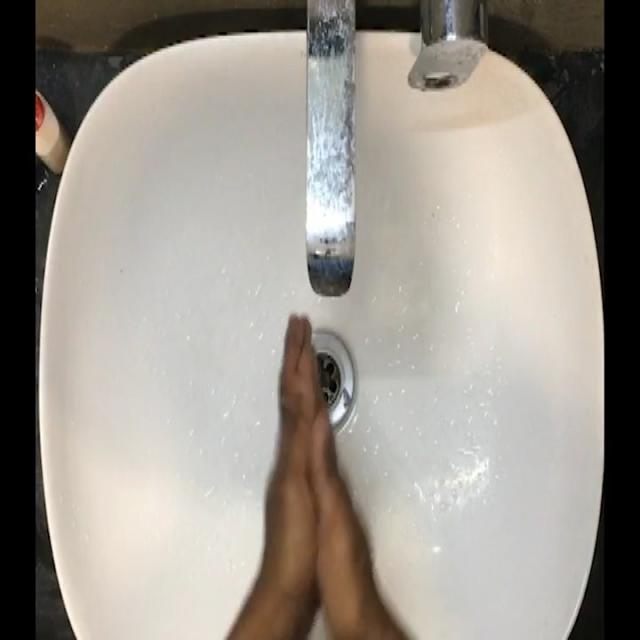step_1: (242, 292, 374, 616)
